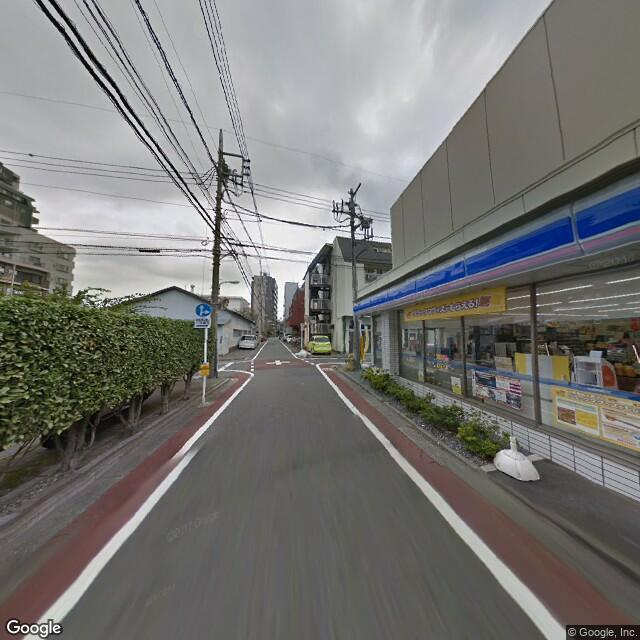lawson: (352, 169, 639, 317)
